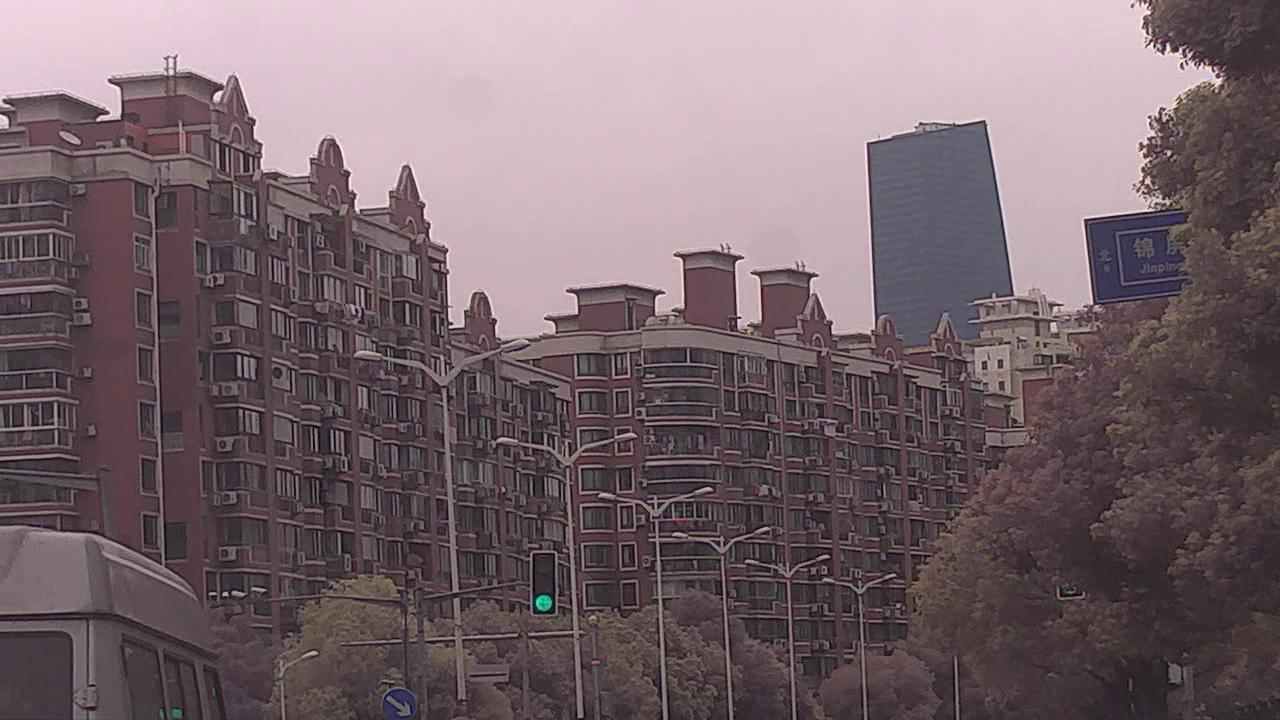traffic_light: (532, 549, 561, 619)
